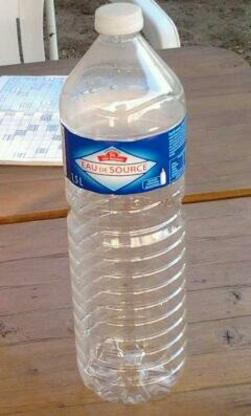Plastic Bottle: (59, 2, 189, 404)
